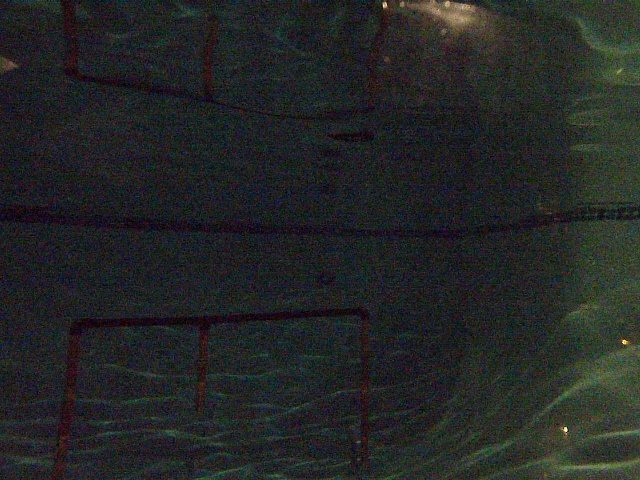Gate: (47, 332, 84, 478), (355, 316, 375, 463), (194, 327, 211, 408)
